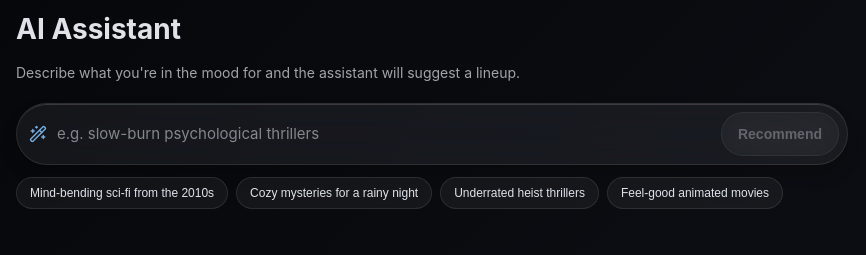
Test: Assistant - recommend flow (local provider) › stringifies non-Error failures
Type "x" into the field named "Describe what to watch" at (384, 134), box 55,117 -> 713,151
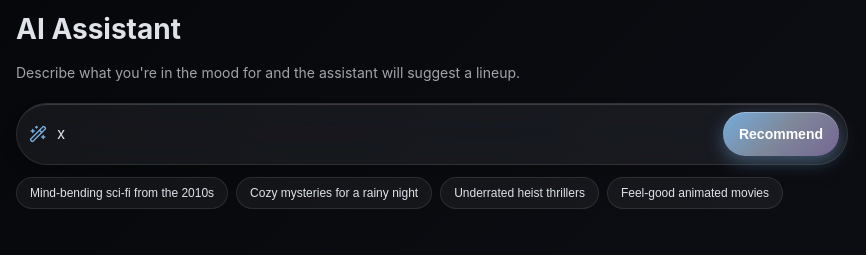
Click the button "Recommend" at (781, 134), box 723,112 -> 839,156
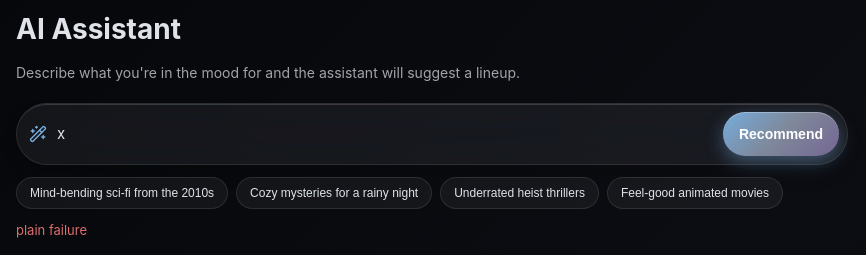
Expected: the text "plain failure" is shown, 16,222 -> 87,238
